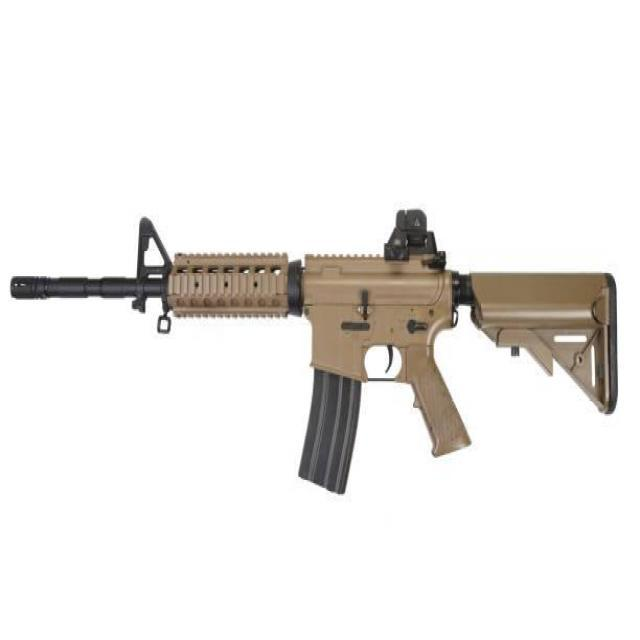weapon: (9, 205, 618, 498)
